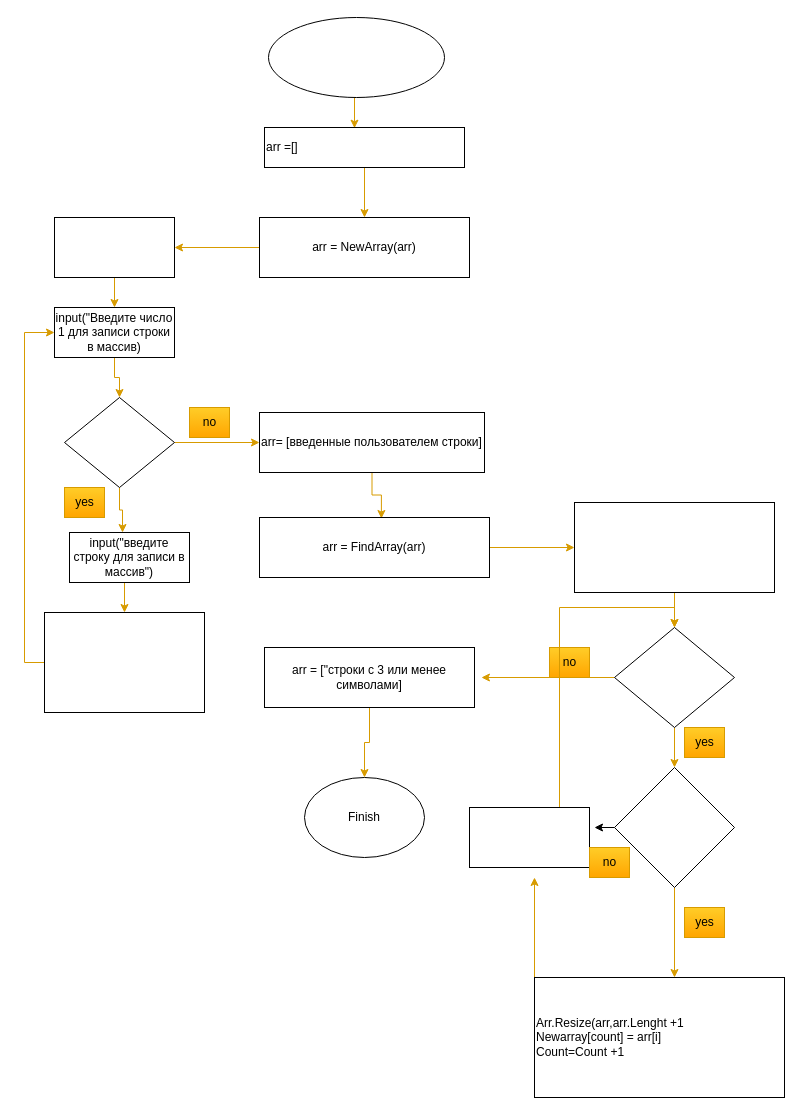
The diagram is 802 pixels wide and 1115 high, and some of its shapes have lost their labels. The shapes that lost their labels are listed below. From the top down, each one's box as (x1, y1, x2, y2) in pixels, then its label:
(268, 16, 444, 98): START
(54, 216, 174, 278): int count =0 arr[]
(64, 396, 174, 488): if input == 1
(574, 502, 774, 592): Newarray =[] arr= [введенные пользователем строки] count =0 index = 0
(44, 612, 204, 712): Arr.Resize(arr,arr.Lenght +1 arr[count] = input Сount=Count +1
(614, 626, 734, 728): index< arr.Lenght
(468, 806, 590, 868): index= index+1
(614, 766, 734, 888): if arr[i].lenght<4
